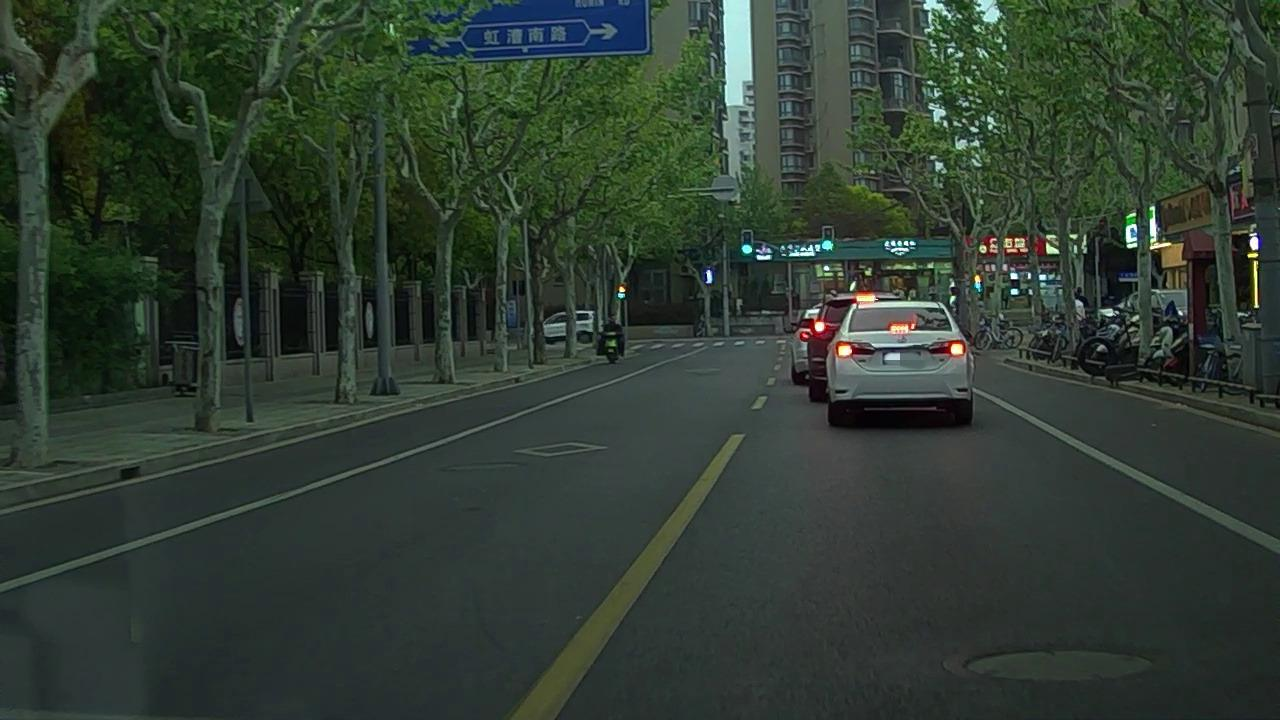traffic_light: (742, 230, 753, 258), (823, 226, 834, 253)
